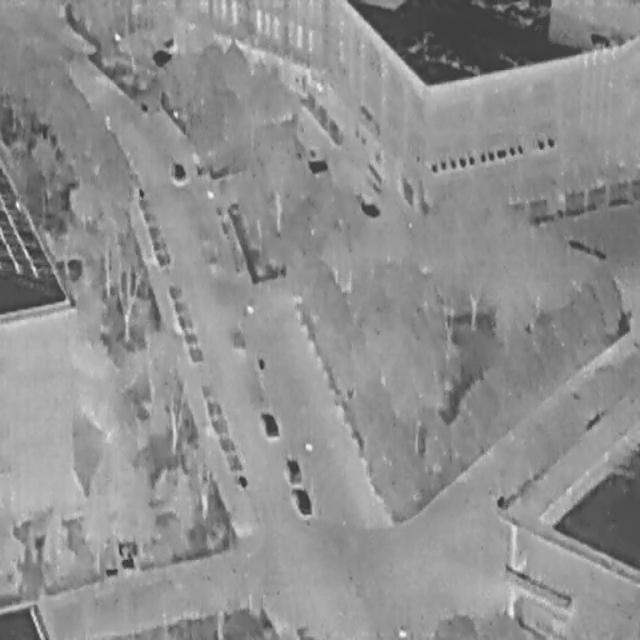Car: (290, 482, 312, 518), (259, 406, 280, 439), (282, 454, 302, 485), (172, 160, 185, 180)
